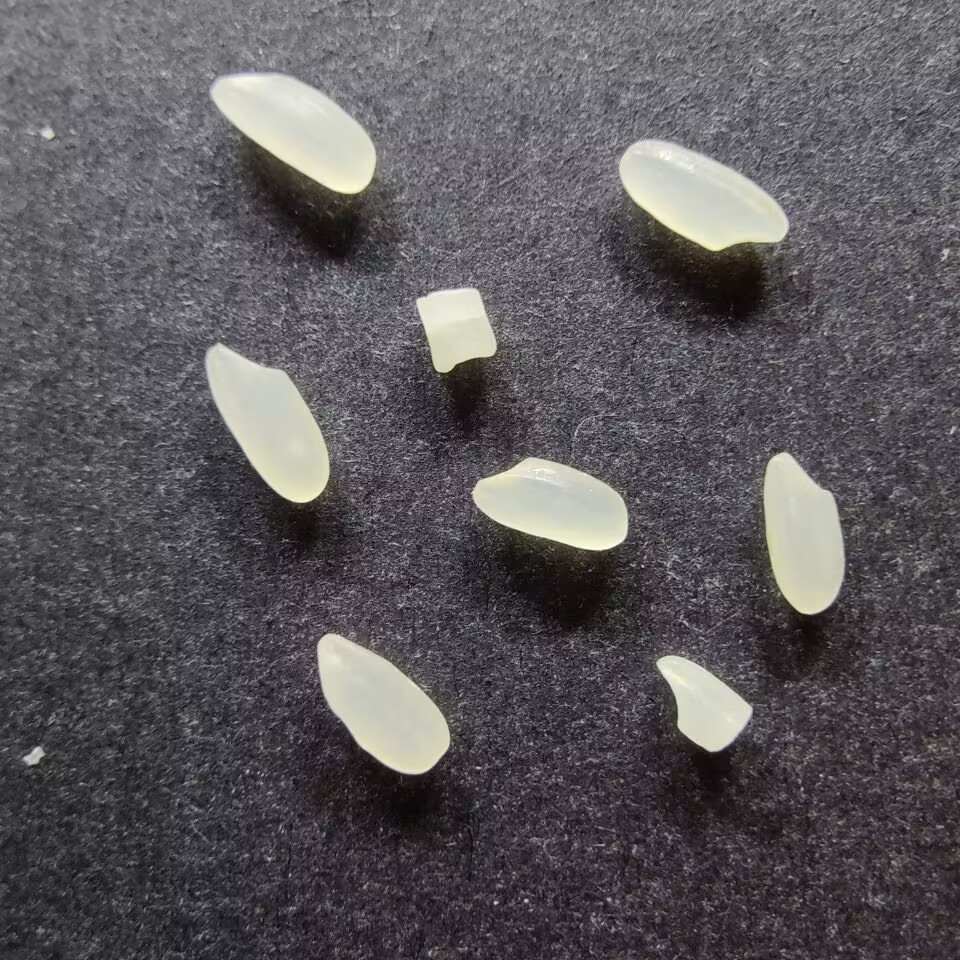broken: (654, 653, 754, 756), (411, 287, 500, 375)
rice: (207, 70, 379, 195), (201, 341, 331, 503), (616, 137, 789, 254), (314, 630, 452, 776), (468, 454, 631, 552), (759, 450, 845, 616)
